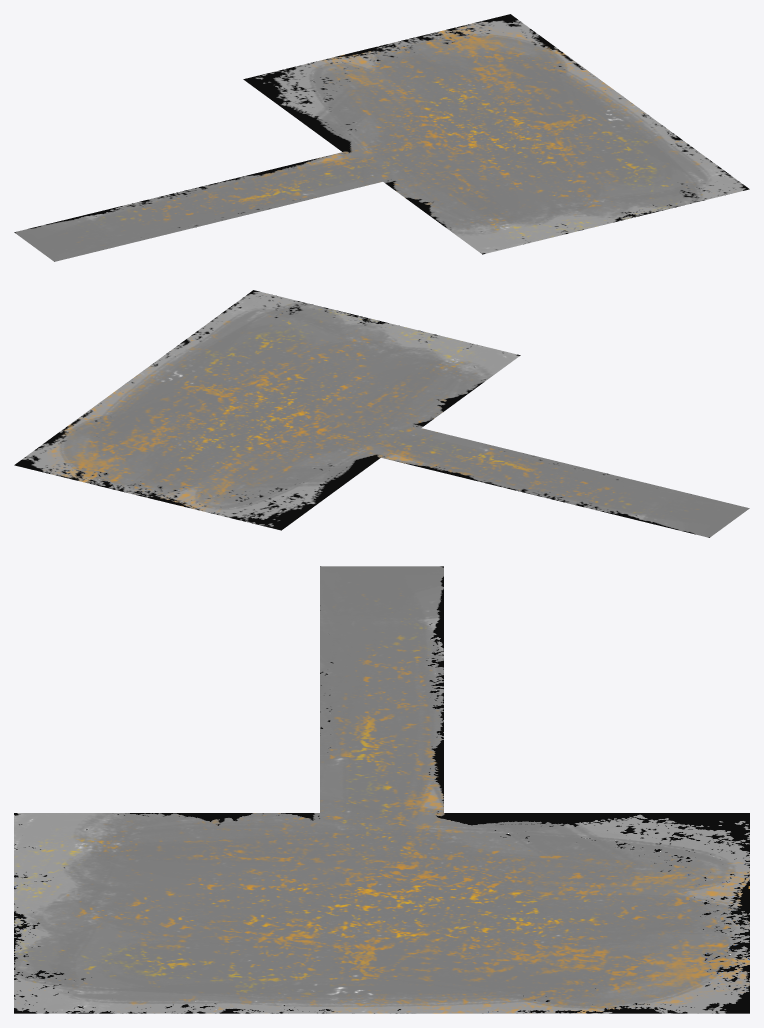
File: bridge.glb
3 renders of one model, top to bottom at view 1: azimuth 30°, elevation 25°; view 2: azimuth 150°, elevation 25°; view 3: azimuth 270°, elevation 25°, orthographic. The views are drawn at different scales.
Visible parts, largest first — view 1: bridge; view 2: bridge; view 3: bridge.
Boxes of the visible parts, x1=… form: bridge: x1=14, y1=14, x2=749, y2=261; bridge: x1=14, y1=290, x2=749, y2=537; bridge: x1=14, y1=566, x2=749, y2=1013.
Size of the model in its own units: 15.6 by 0 by 10.85.
Materials: 1 (1 with a texture image).
